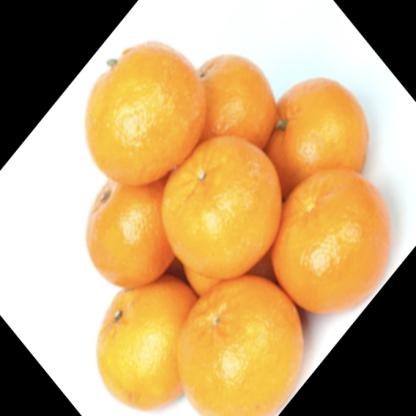fresh: (87, 41, 391, 416)
